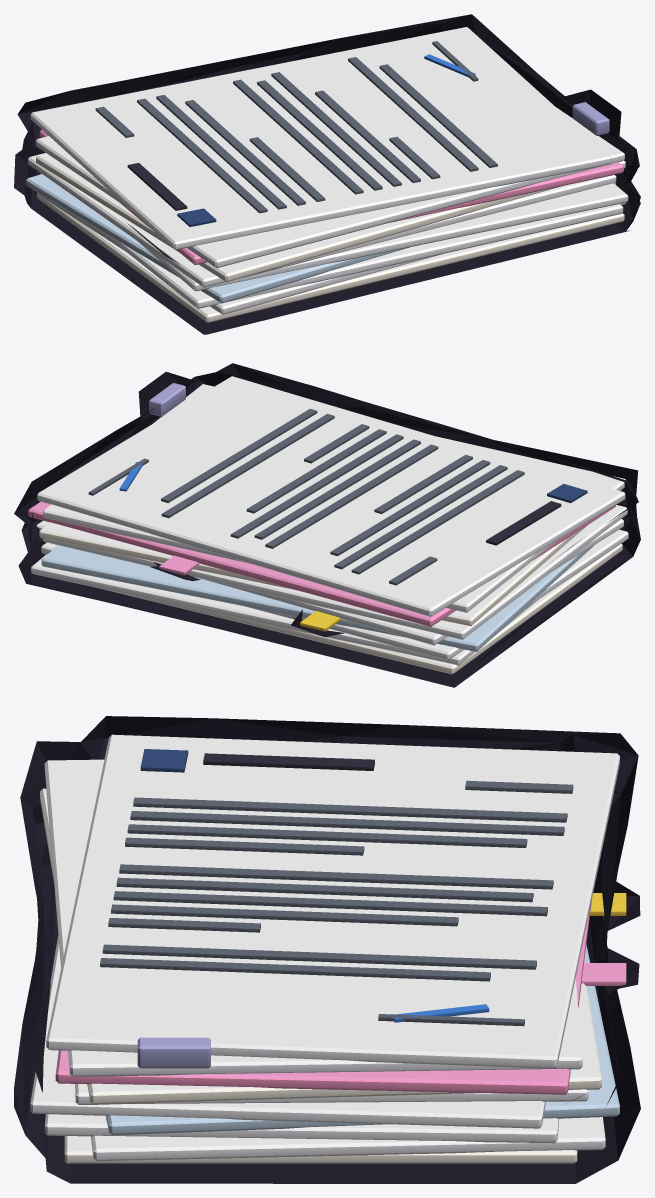
File: Paper_Stack_Outline.fbx
3 views of the same model, one above another, from view 1: azimuth 30°, elevation 25°; view 2: azimuth 150°, elevation 25°; view 3: azimuth 270°, elevation 25° (orthographic). The views are drawn at different scales.
Parts seen in each view (by area): view 1: Paper_Stack; view 2: Paper_Stack; view 3: Paper_Stack.
Boxes of the visible parts, x1,y1,x2,y2 form: Paper_Stack: [14, 14, 640, 334]; Paper_Stack: [14, 363, 640, 687]; Paper_Stack: [14, 716, 640, 1183].
Size of the model in its own units: 1.5 by 0.3153 by 1.16.
1 material, 1 textured.
